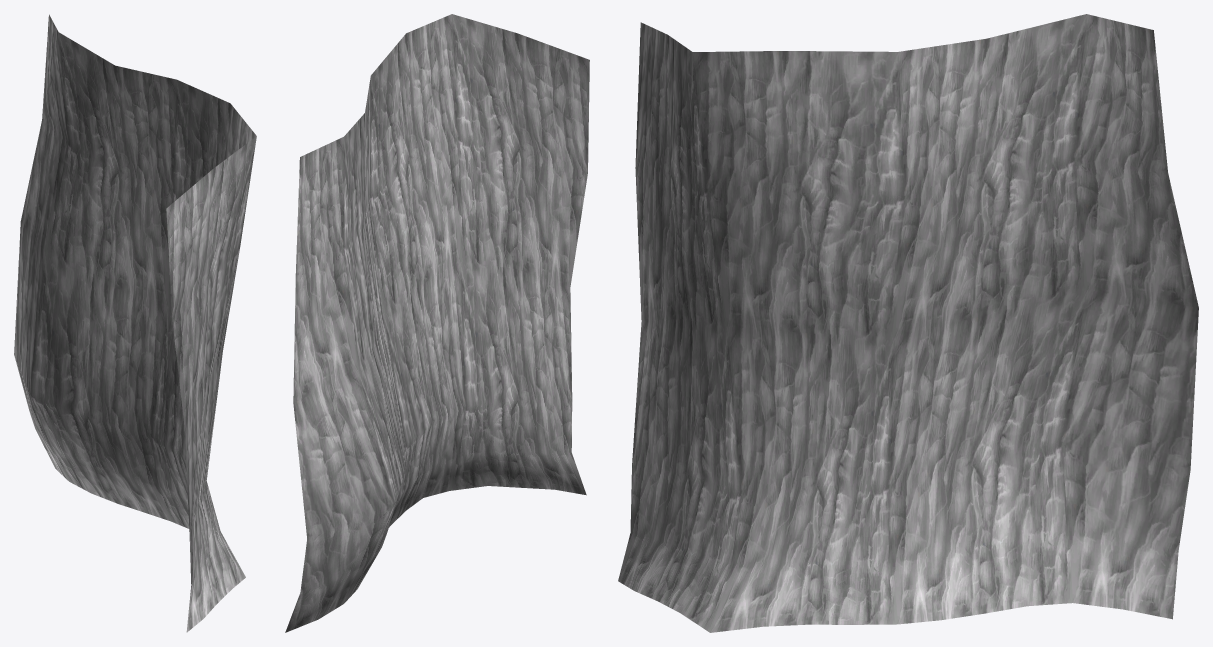
Rendered from SWORDLIGHT20_PS-AREA03_30.fbx.
3 views of the same model, side by side, from view 1: azimuth 30°, elevation 25°; view 2: azimuth 150°, elevation 25°; view 3: azimuth 270°, elevation 25° (orthographic). The views are drawn at different scales.
Visible parts, largest first — view 1: SWORDLIGHT20_PS-AREA03_30; view 2: SWORDLIGHT20_PS-AREA03_30; view 3: SWORDLIGHT20_PS-AREA03_30.
Part boxes in pixels (box(x1,y1,x2,y2)): SWORDLIGHT20_PS-AREA03_30: box(14, 14, 256, 632); SWORDLIGHT20_PS-AREA03_30: box(285, 14, 589, 632); SWORDLIGHT20_PS-AREA03_30: box(618, 14, 1198, 632).
Size of the model in its own units: 54750 by 201299 by 176721.
Materials: 1 (1 with a texture image).
